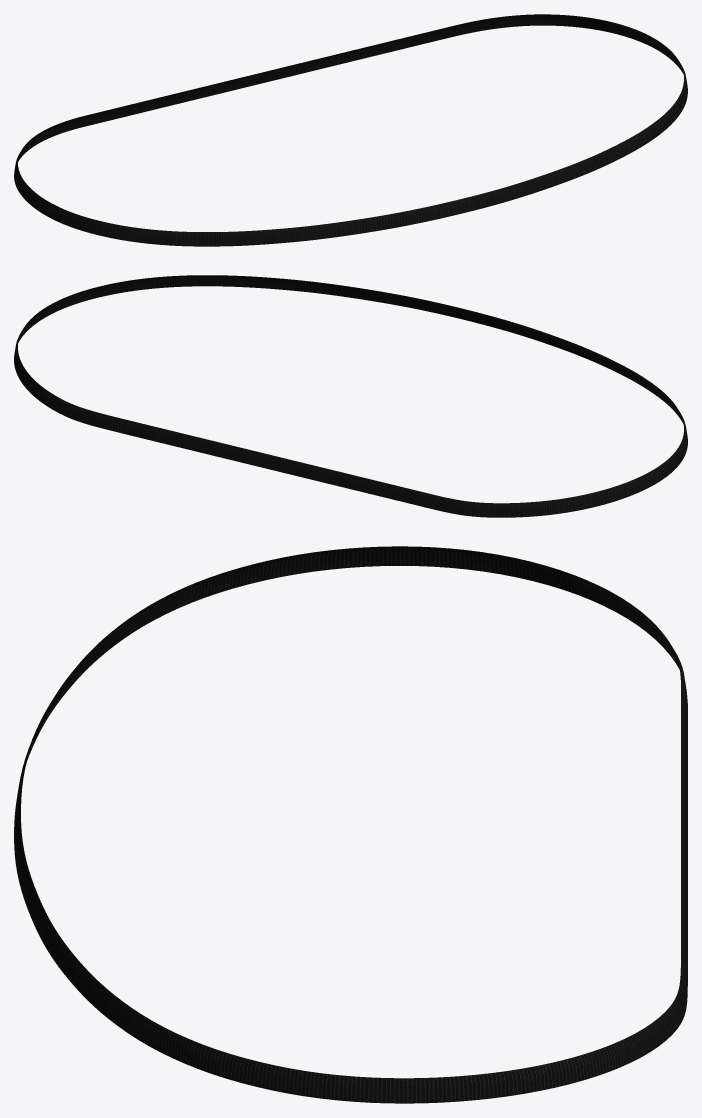
Rendered from Track2_Fence.fbx.
The picture shows the model from 3 angles, top to bottom: view 1: azimuth 30°, elevation 25°; view 2: azimuth 150°, elevation 25°; view 3: azimuth 270°, elevation 25°; orthographic projection. The views are drawn at different scales.
Visible parts, largest first — view 1: Track2_Fence; view 2: Track2_Fence; view 3: Track2_Fence.
Part boxes in pixels (bbox=[...]): Track2_Fence: bbox=[14, 14, 687, 246]; Track2_Fence: bbox=[14, 275, 687, 517]; Track2_Fence: bbox=[14, 546, 687, 1103].
Size of the model in its own units: 18763 by 622 by 9939.
